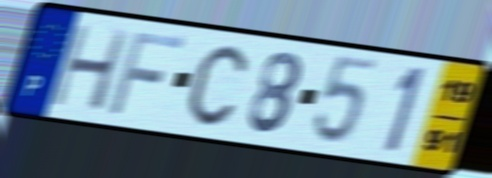1: (384, 64, 429, 157)
5: (309, 51, 381, 150)
8: (247, 50, 303, 136)
C: (185, 42, 250, 129)
F: (105, 29, 189, 118)
H: (47, 21, 133, 114)
